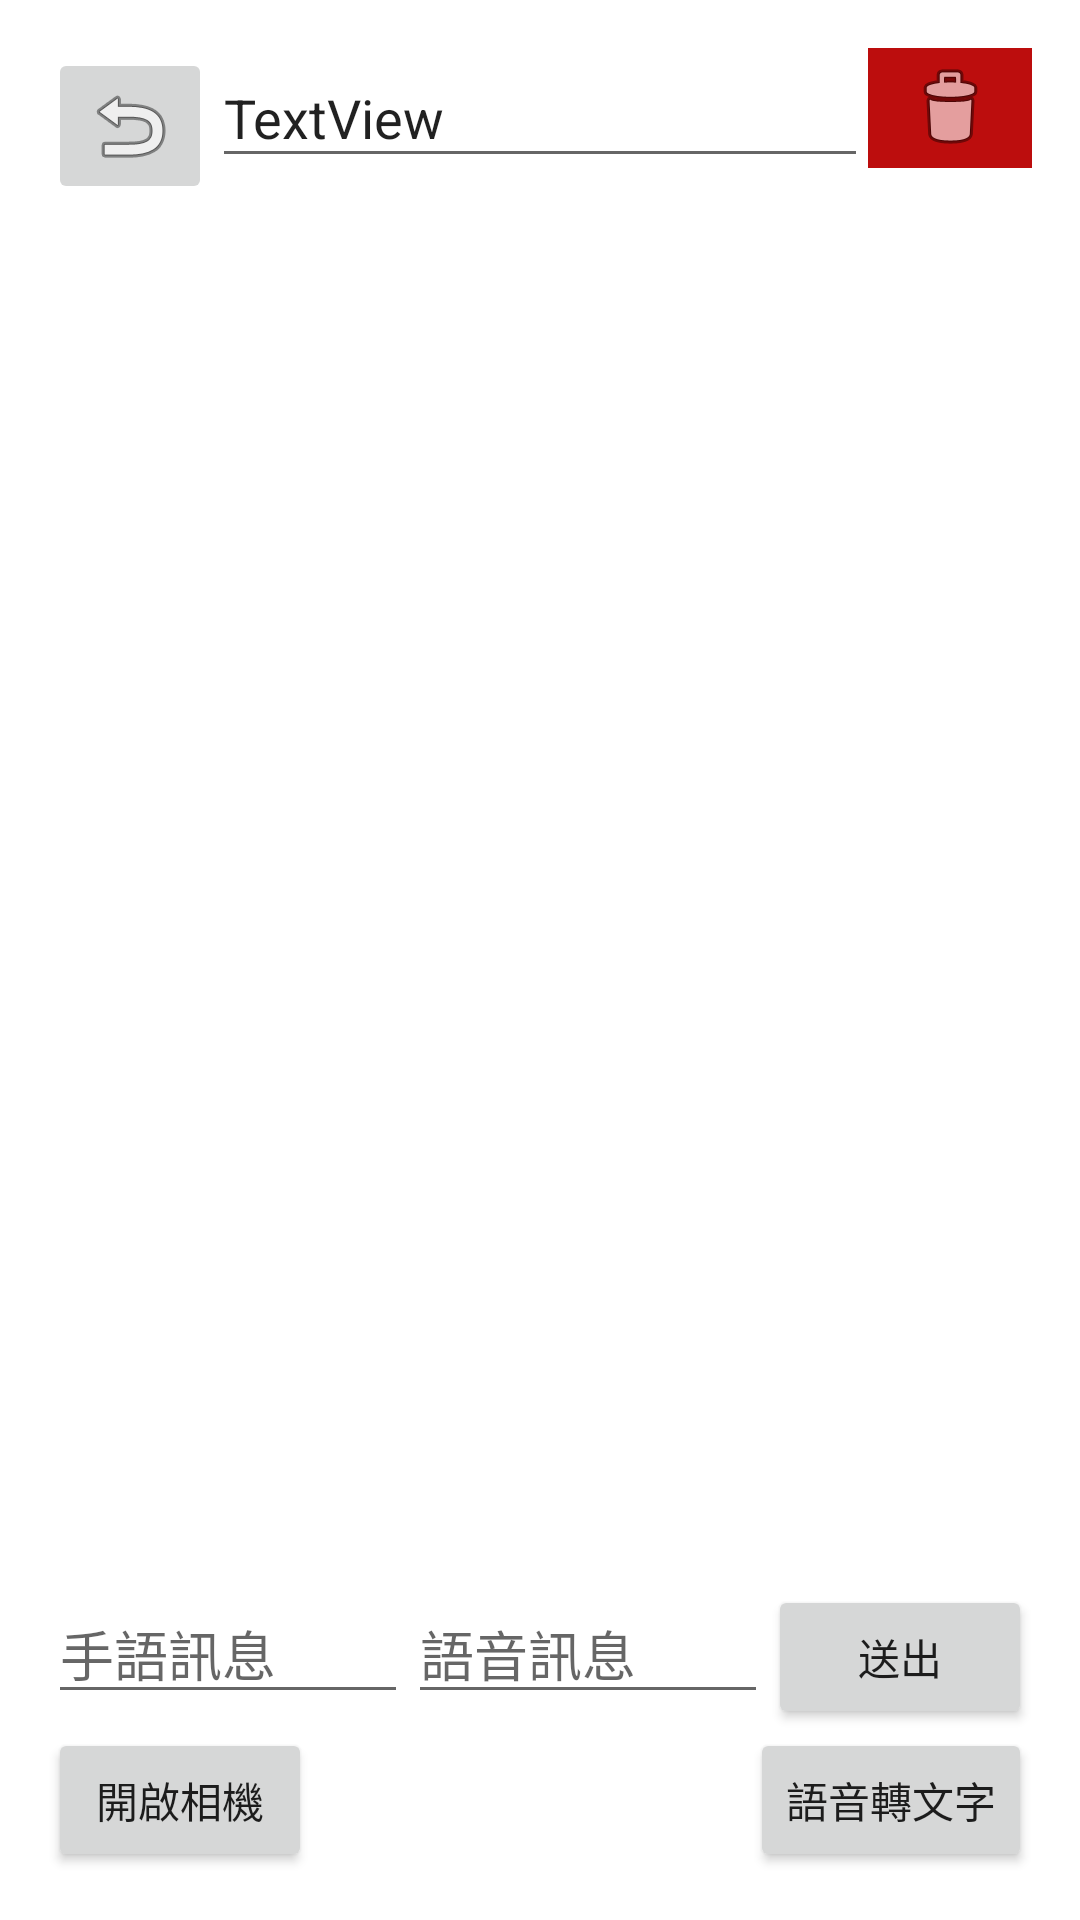

Icons on this 1080px x 1920px Android screen, each with its box as [x1, y1, x2, y2]:
delete: [868, 48, 1032, 168]
revert: [60, 66, 200, 186]
